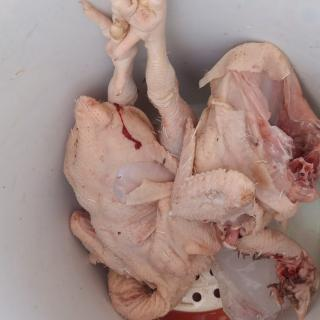Ayam: (61, 1, 320, 320)
